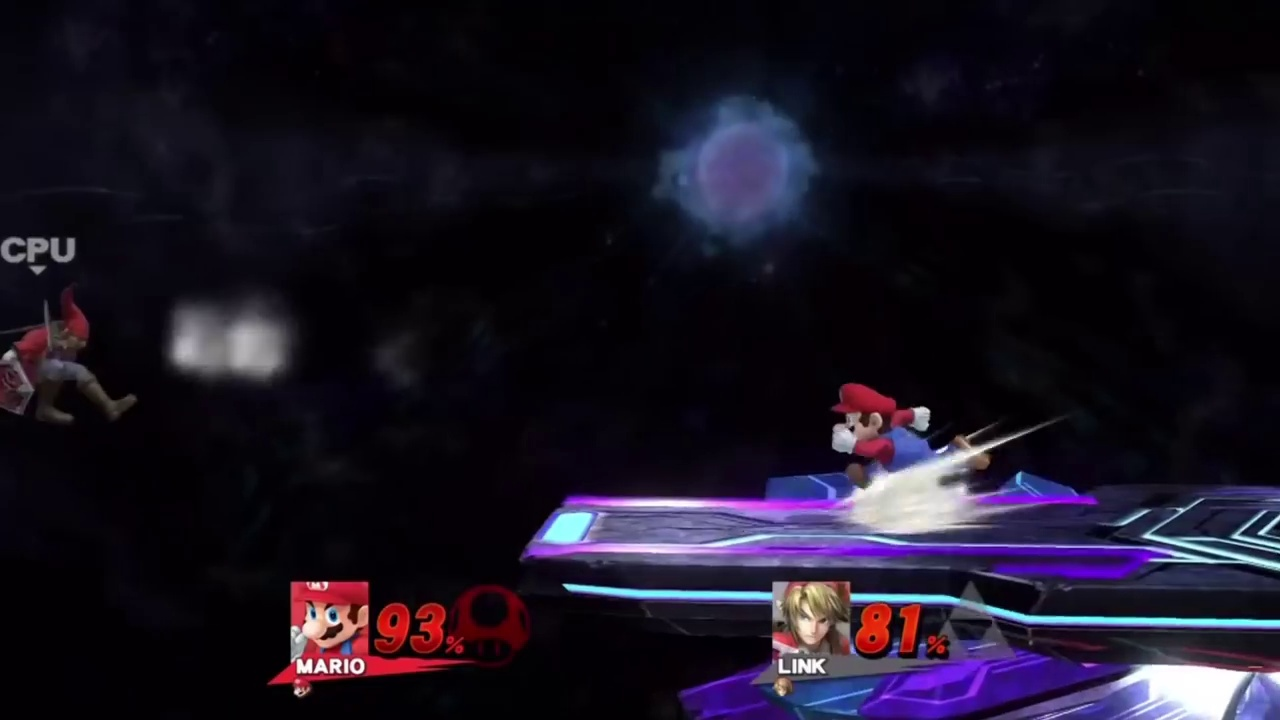Mario: (830, 386, 987, 493)
